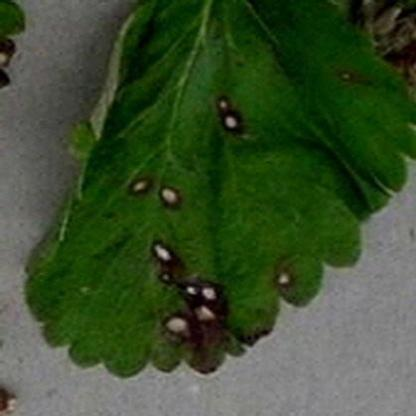Strawberry_Leaf_Spot: (22, 0, 415, 382)
